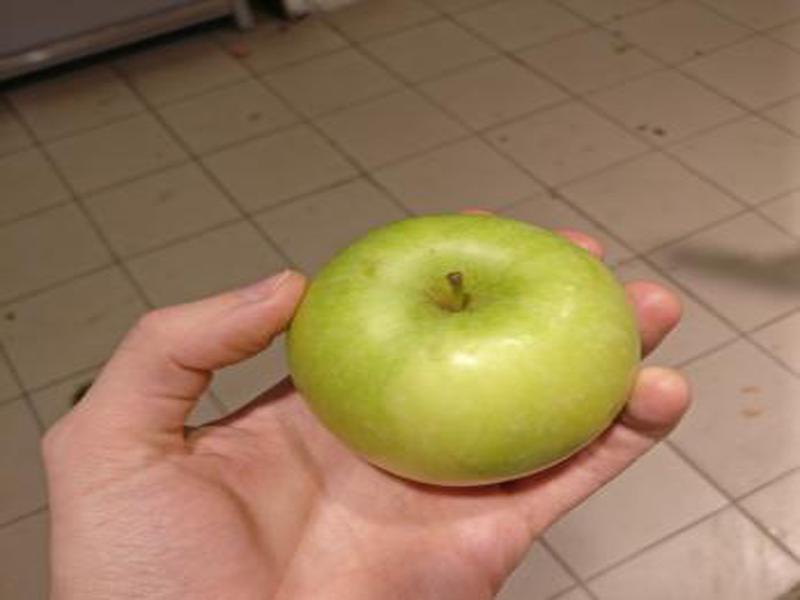green apple: (285, 211, 641, 488)
